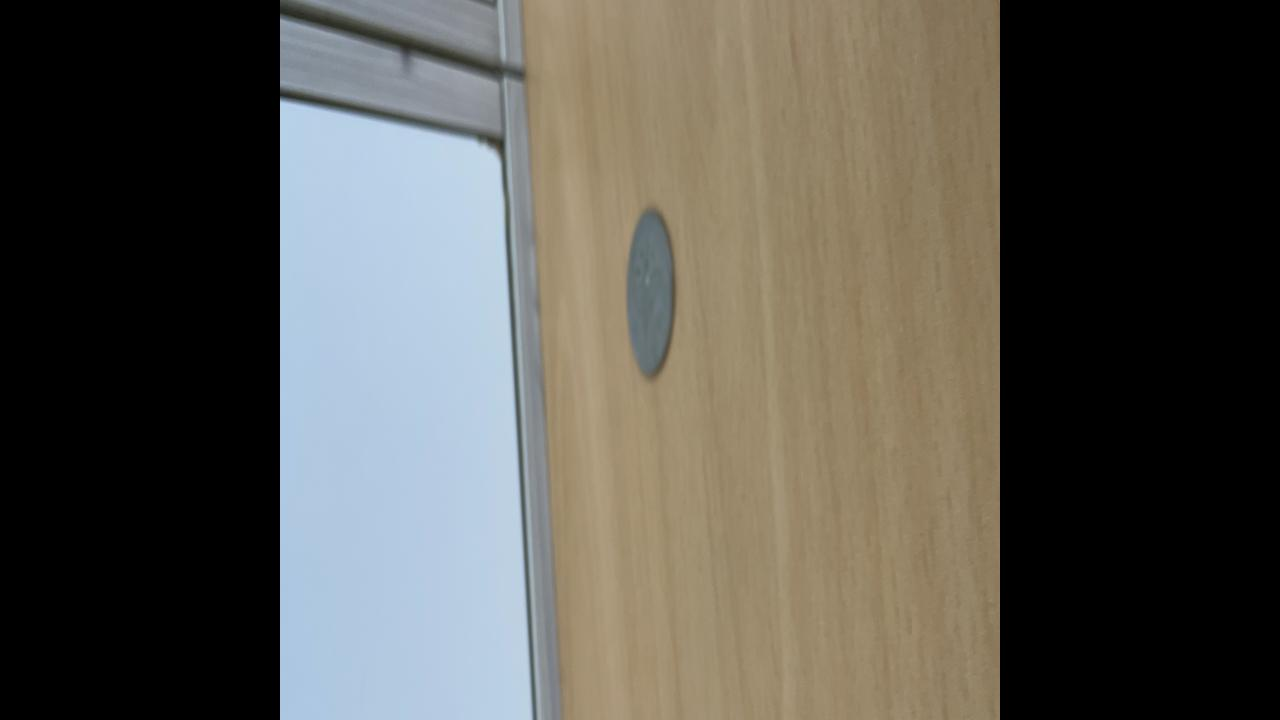coin: (623, 200, 677, 386)
